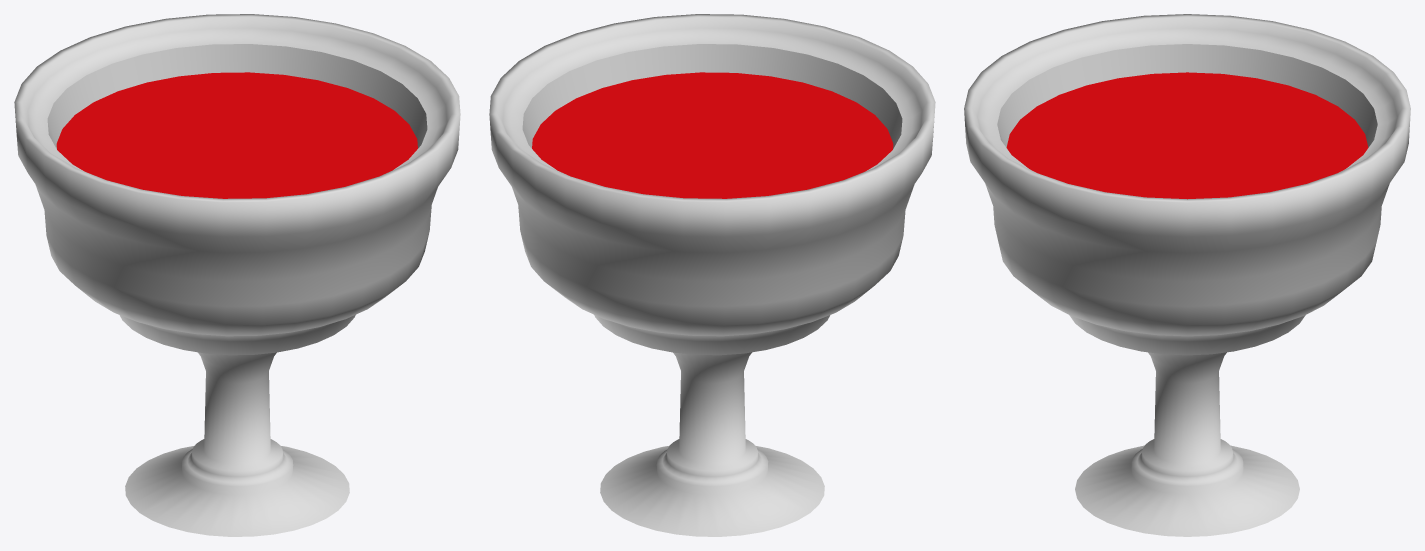
Rendered from WineGlass.fbx.
The picture shows the model from 3 angles, left to right: view 1: azimuth 30°, elevation 25°; view 2: azimuth 150°, elevation 25°; view 3: azimuth 270°, elevation 25°; orthographic projection.
Parts seen in each view (by area): view 1: Cylinder; view 2: Cylinder; view 3: Cylinder.
Boxes of the visible parts, x1,y1,x2,y2 form: Cylinder: (14, 14, 460, 536); Cylinder: (489, 14, 935, 536); Cylinder: (964, 14, 1410, 536).
Bounding box in the file's own units: 26.53 × 26.53 × 24.96.
